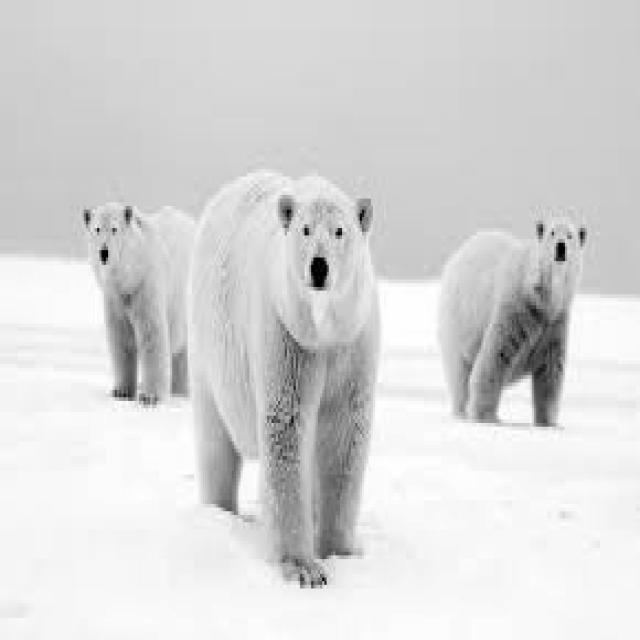Bear: (194, 190, 393, 568), (448, 220, 589, 417), (80, 181, 170, 403)
